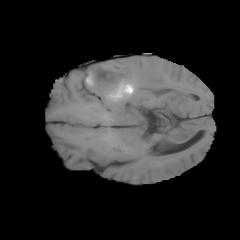glioma: (84, 61, 168, 107)
